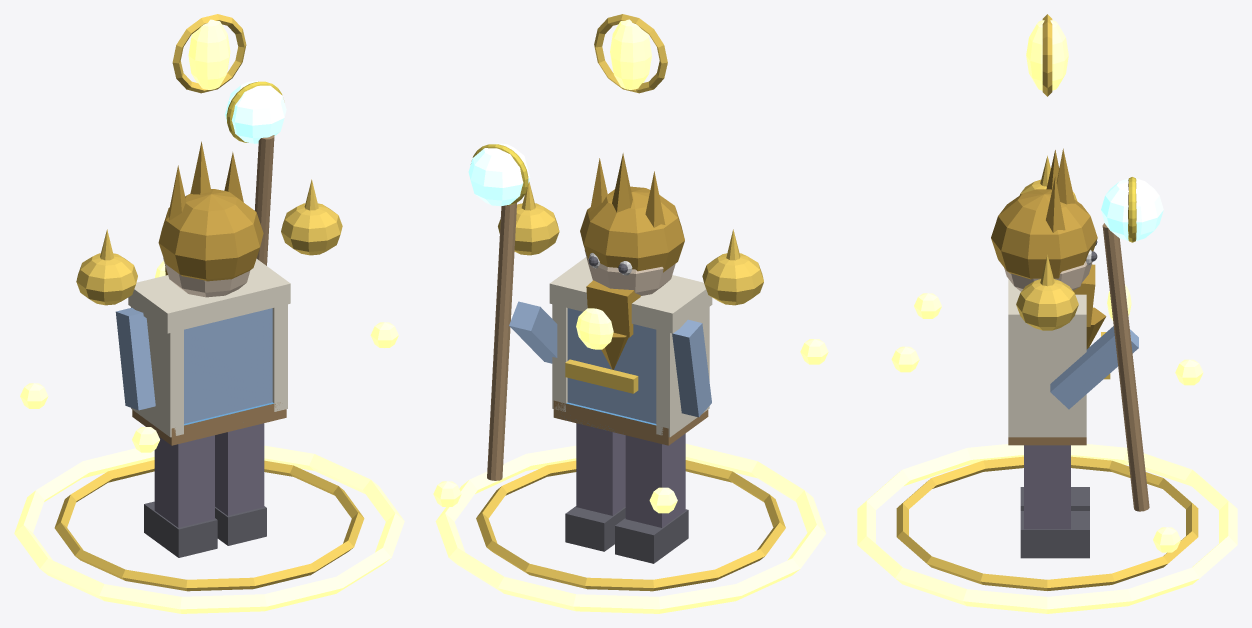
Rendered from hero_ice_wizard.glb.
3 renders of one model, left to right at view 1: azimuth 30°, elevation 25°; view 2: azimuth 150°, elevation 25°; view 3: azimuth 270°, elevation 25°, orthographic.
Parts seen in each view (by area): view 1: hero_ice_wizard; view 2: hero_ice_wizard; view 3: hero_ice_wizard.
Part boxes in pixels (x1,y1,x2,y2): hero_ice_wizard: [14, 14, 404, 613]; hero_ice_wizard: [433, 14, 828, 613]; hero_ice_wizard: [857, 14, 1237, 613].
Size of the model in its own units: 2.78 by 4.08 by 2.71.
